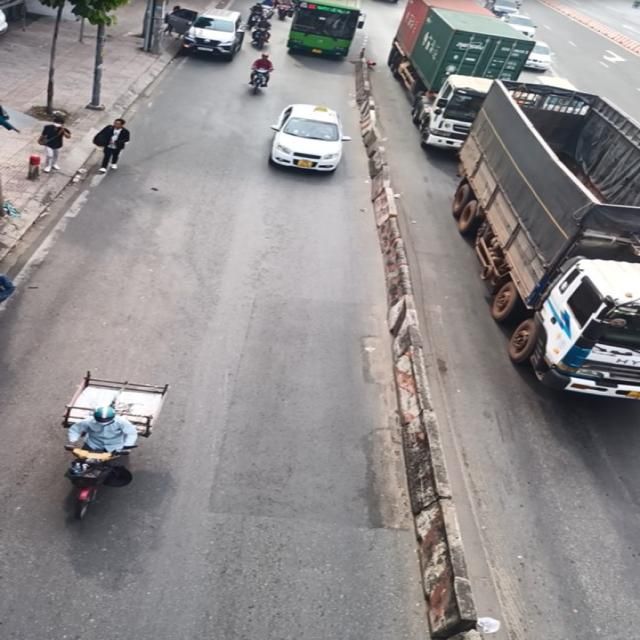bus: (290, 0, 366, 59)
car: (271, 102, 347, 174)
motor: (48, 409, 133, 521)
